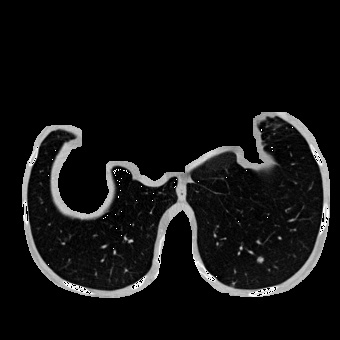PN: (256, 256, 264, 264)
